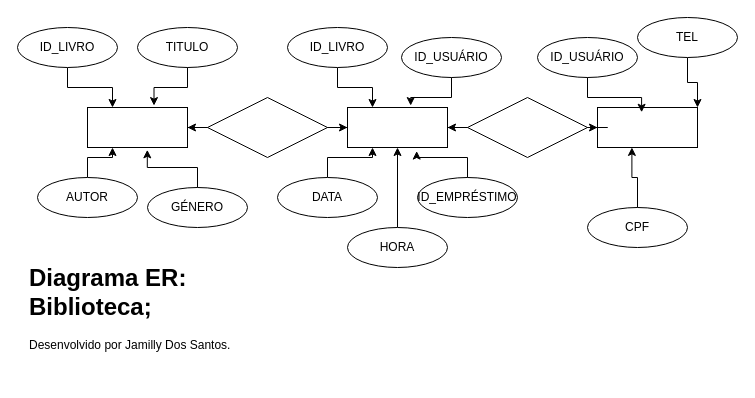
Some shapes in this 755 by 398 pixel diagram are drawn without their labels. The shapes that lost their labels are listed below. From the top down, each one's centre as x and y in pixels, then its label:
At (137,127): "LIVRO".
At (397,127): "EMPRÉSTIMO".
At (647,127): "USUÁRIO".
